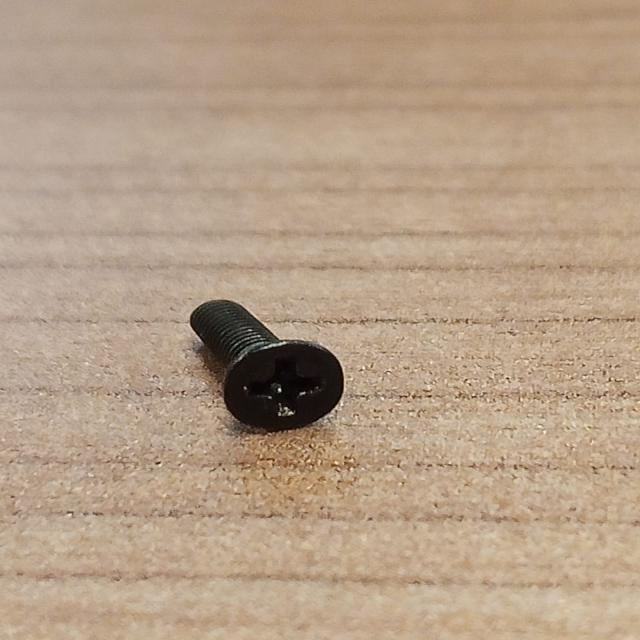phillips: (222, 338, 344, 432)
